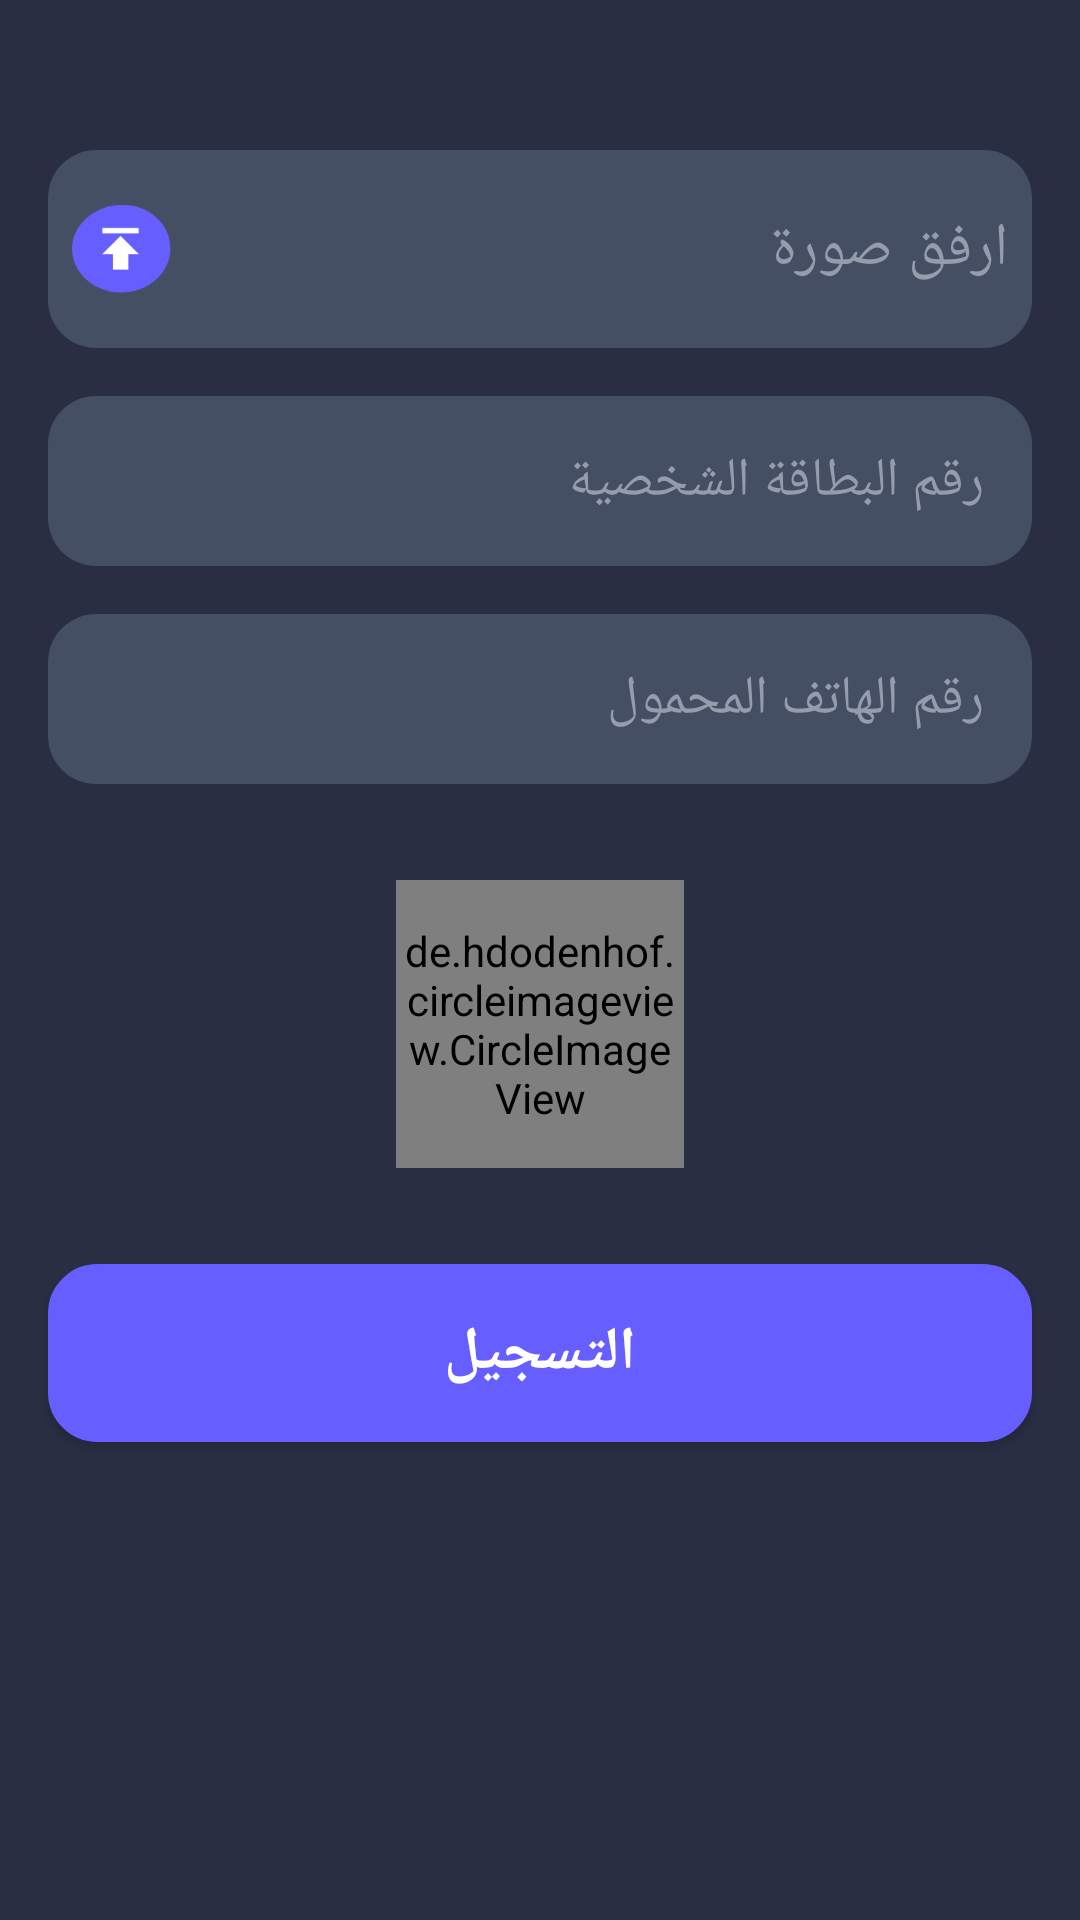

Icons on this 1080px x 1920px Android screen, each with the point to tap as (x=x, y=y):
upload: (x=121, y=249)
